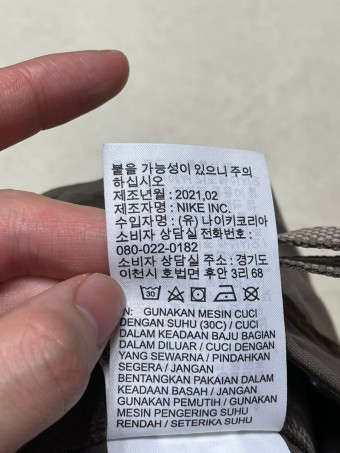ER_iron_low_temp: (210, 281, 239, 305)
ER_no_bleach: (163, 284, 186, 304)
ER_no_dry_clean: (241, 283, 261, 303)
ER_tumble_dry_low_heat: (188, 282, 208, 304)
ER_wash_30: (138, 280, 163, 303)
